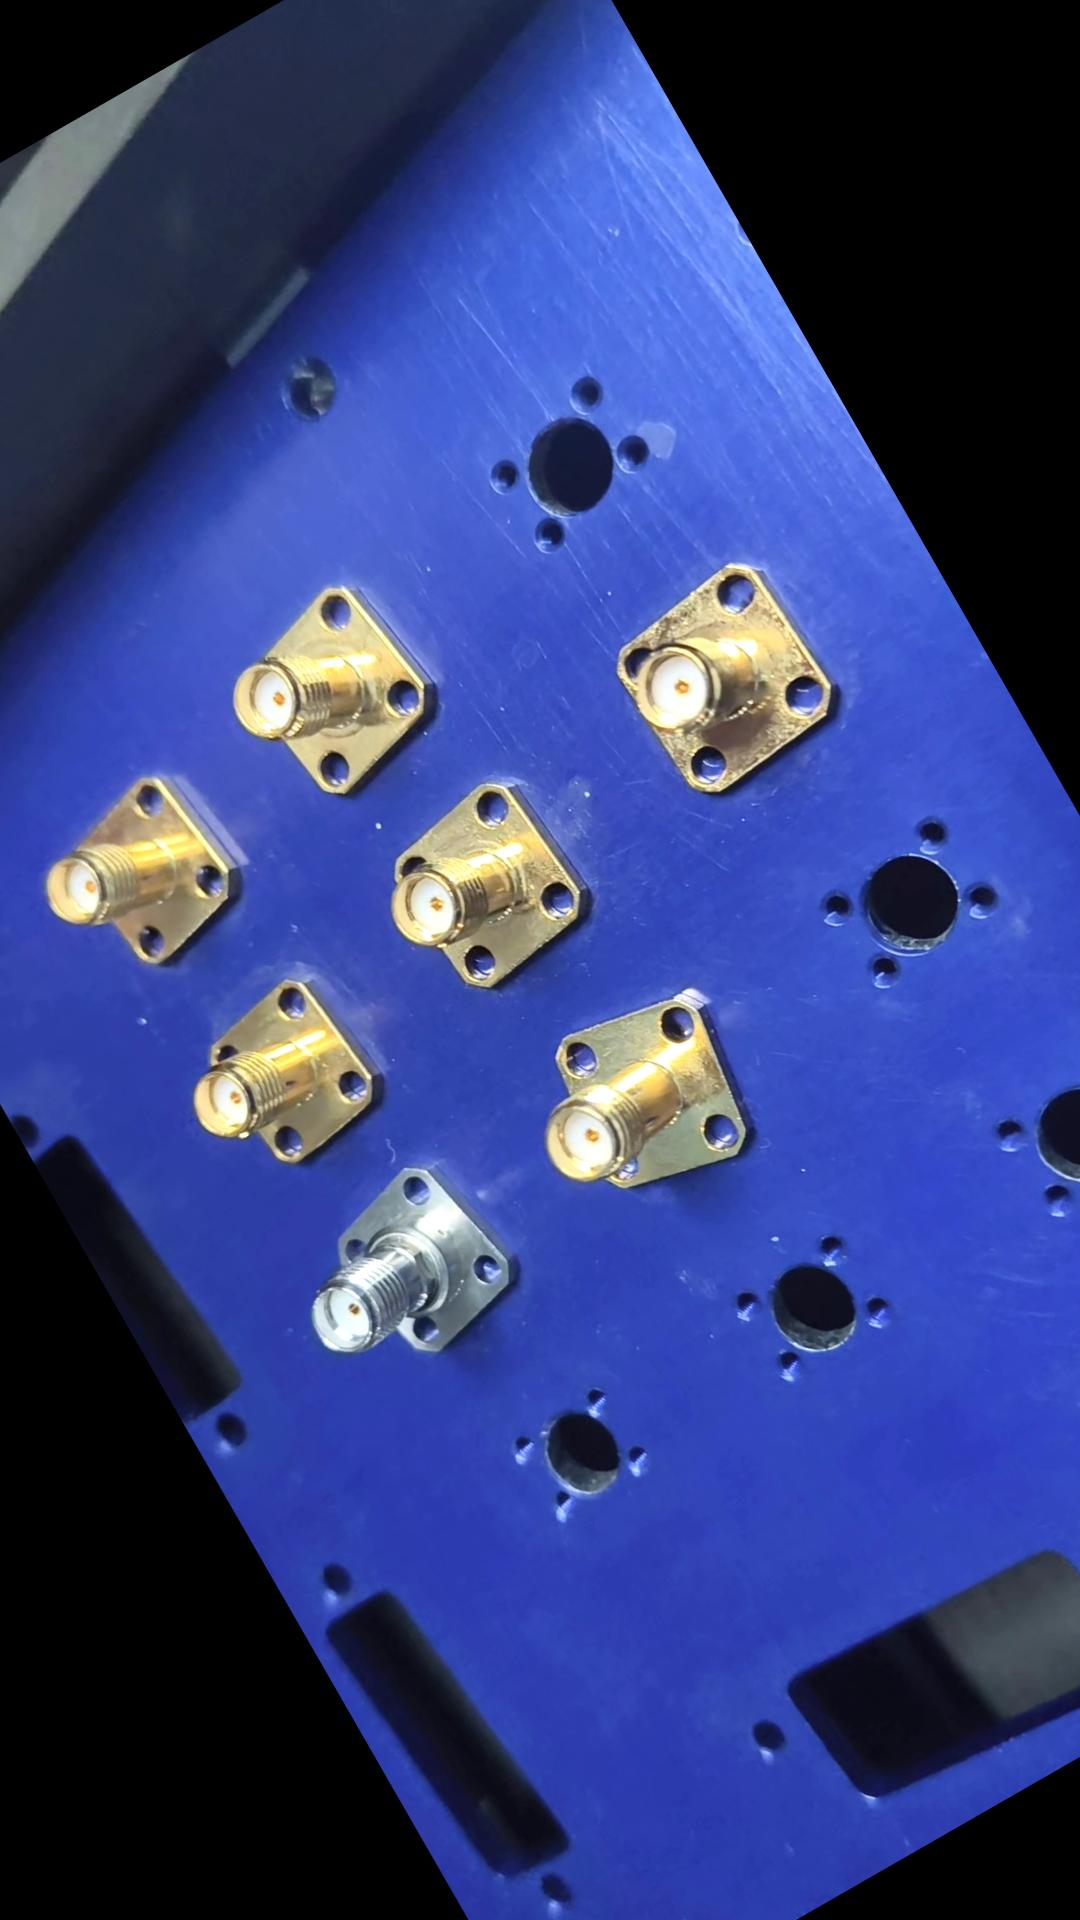SMA: (497, 959, 789, 1244), (206, 556, 471, 823), (595, 541, 858, 807), (355, 757, 616, 1015), (269, 1142, 535, 1394), (21, 756, 272, 1002), (162, 959, 404, 1192)
